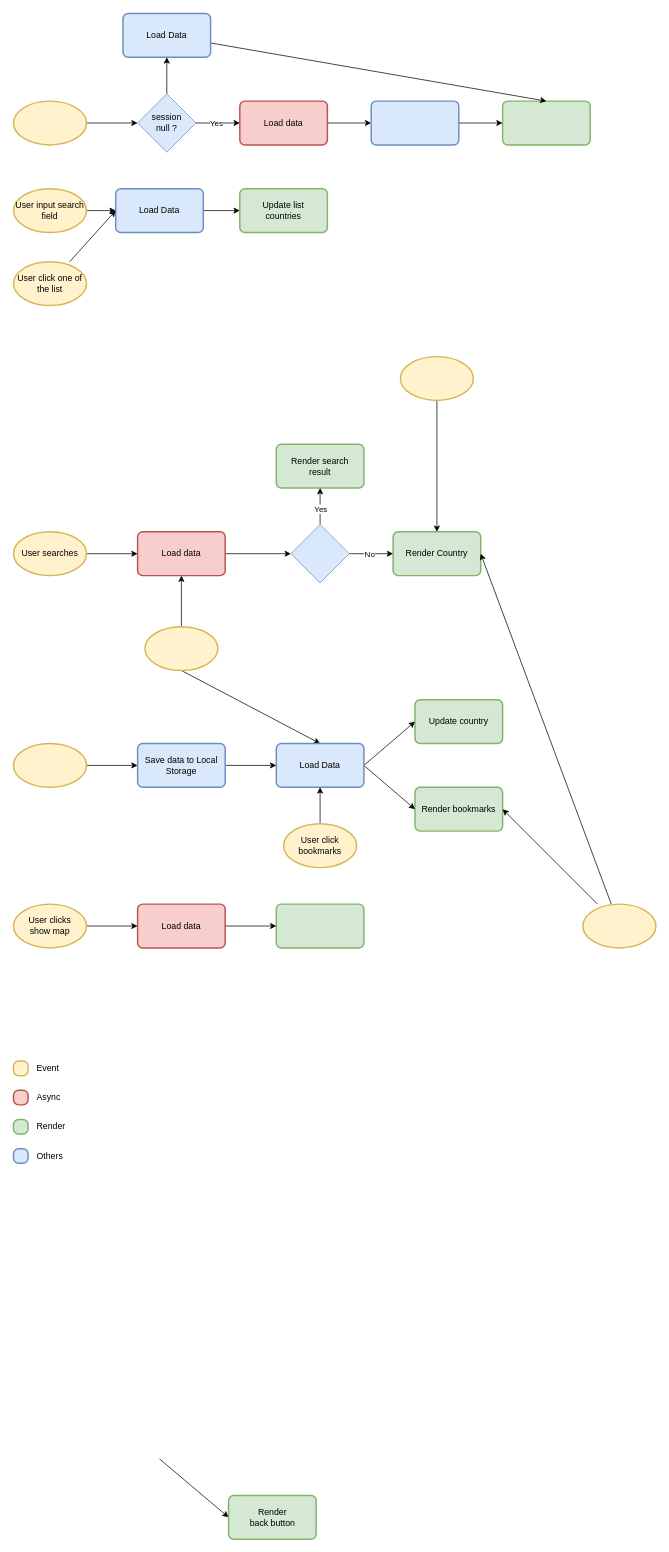
Image size: 669x1552. Some labels were removed from this diagram. The shapes that lost their labels are listed below. From the top down, each one's centre as x and y in pixels, then its label:
(49,122): User click search field
(414,122): Save Countries Data
(546,122): Render list countries
(436,378): User clicks country
(319,553): Data > 1
(181,648): Page load
(49,765): User add bookmarks
(319,925): Render map
(619,925): Click back button
